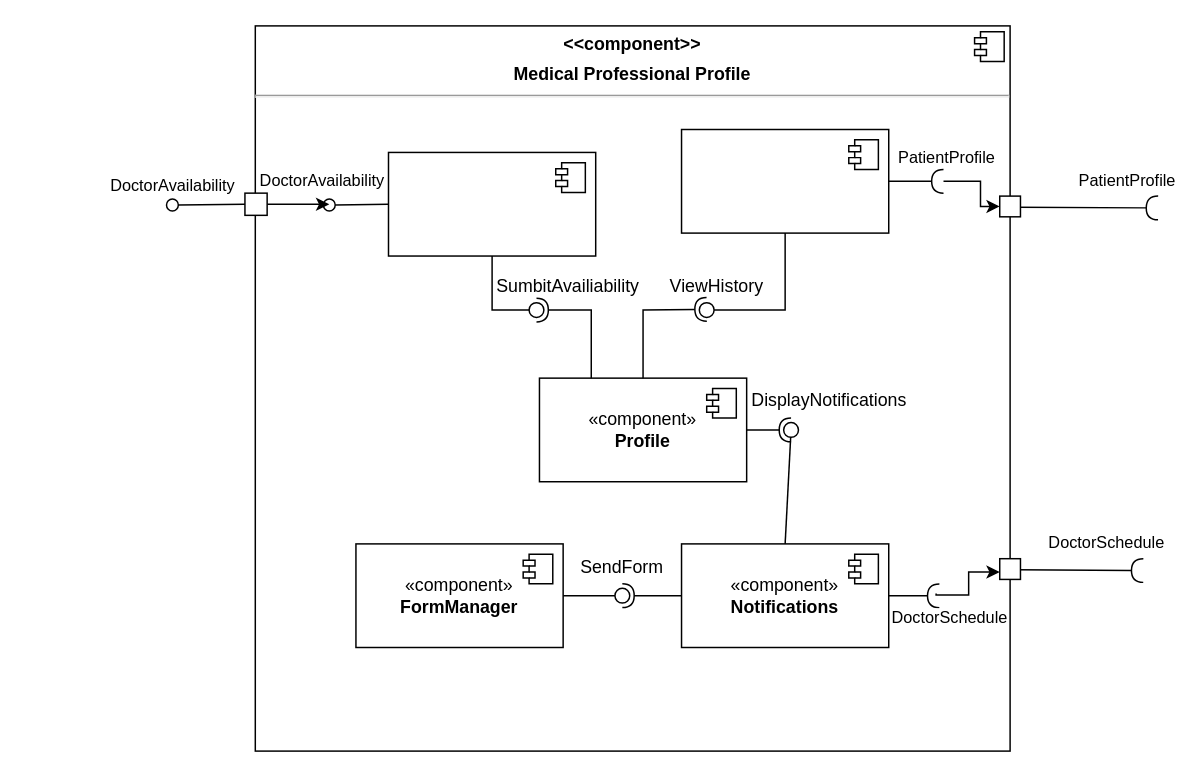
Some shapes in this 1200 by 777 pixel diagram are drawn without their labels. The shapes that lost their labels are listed below. From the top down, each one's centre as x and y in pixels, then its label:
At point (784, 180): "«component» PatientHistory".
At point (491, 203): "«component» Availability".
